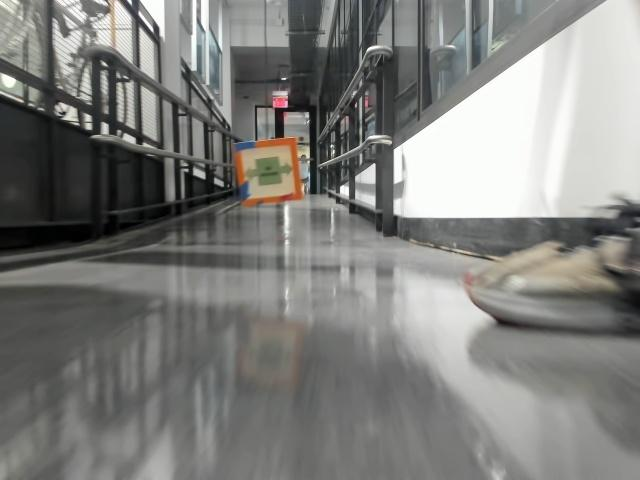Go Around: (242, 160, 290, 188)
